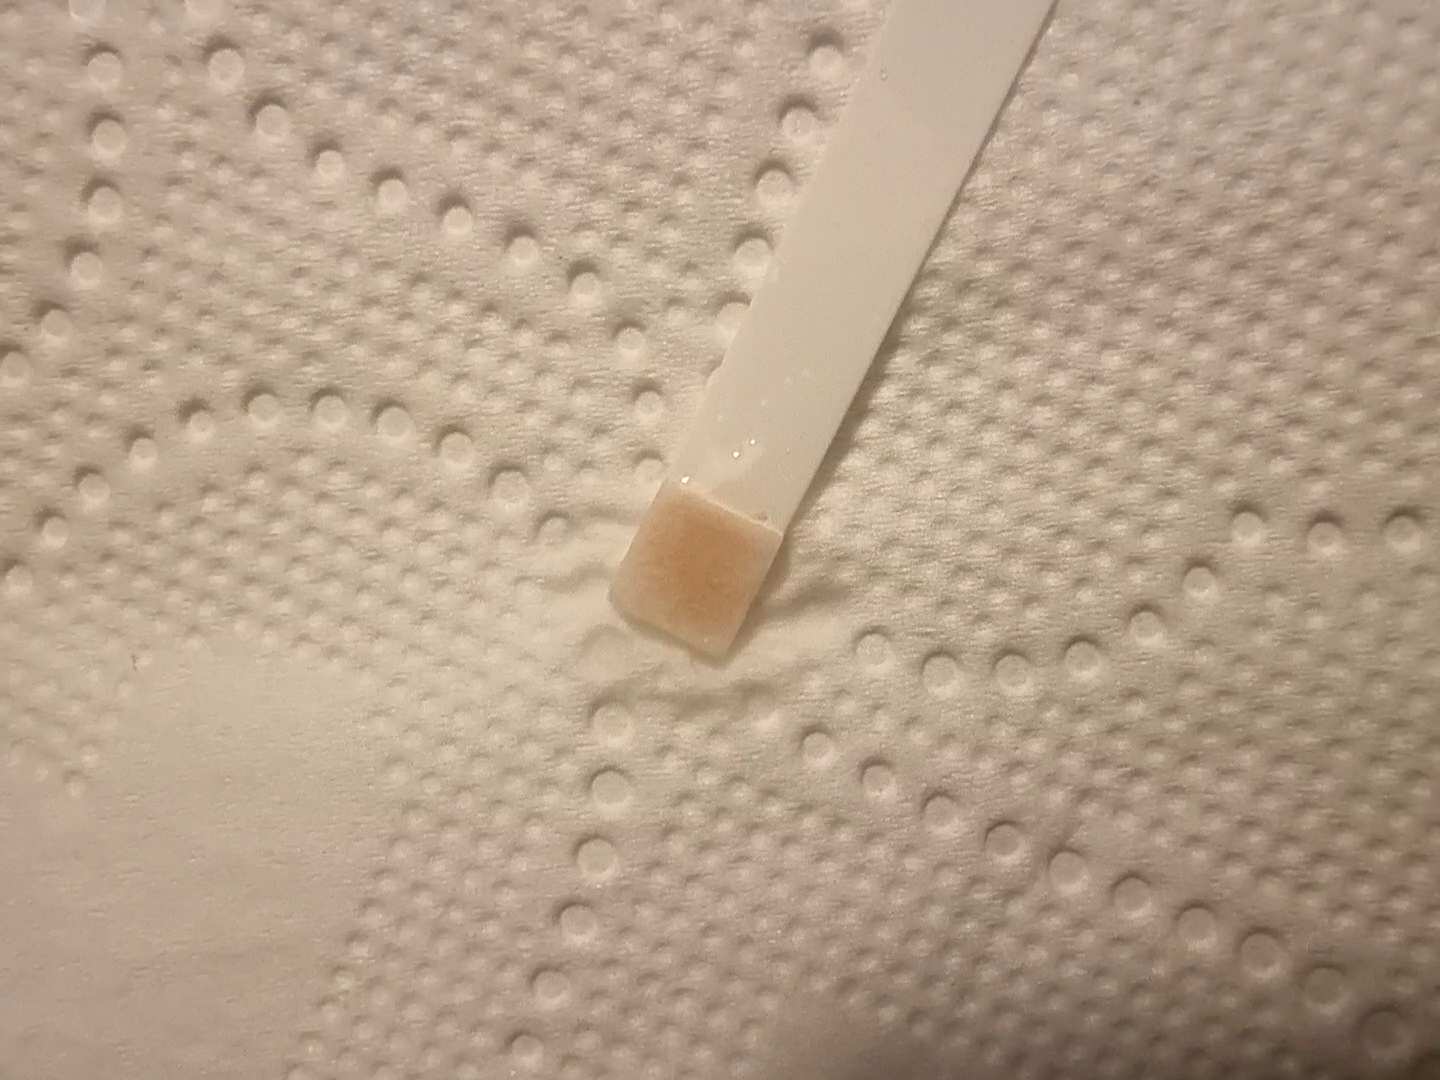keto-tip: (603, 473, 791, 664)
